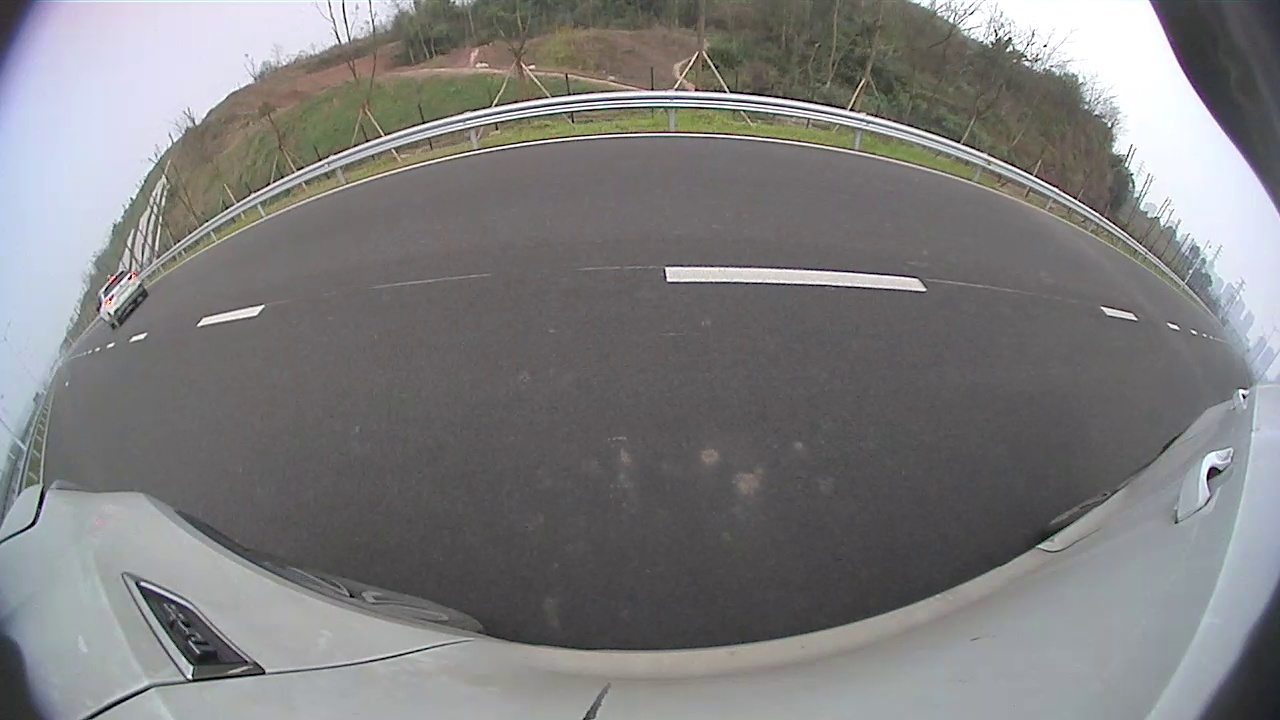car: (726, 147, 818, 203)
front: (727, 175, 738, 194)
rear: (752, 175, 766, 199)
